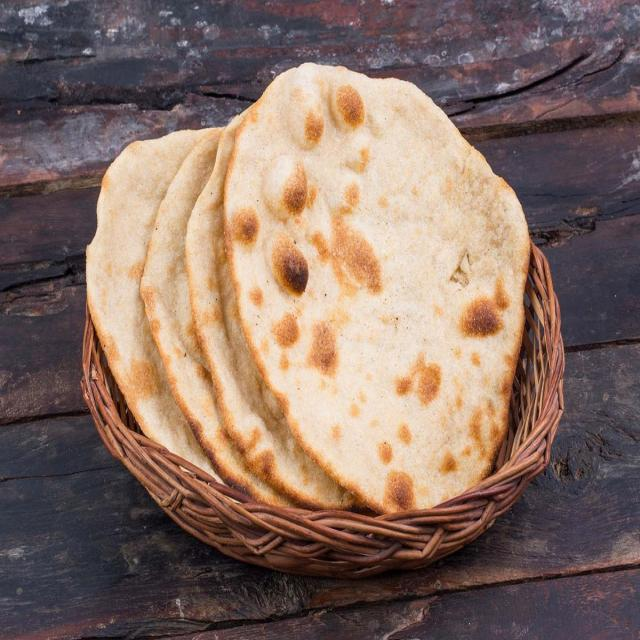ROTI: (87, 73, 538, 496)
